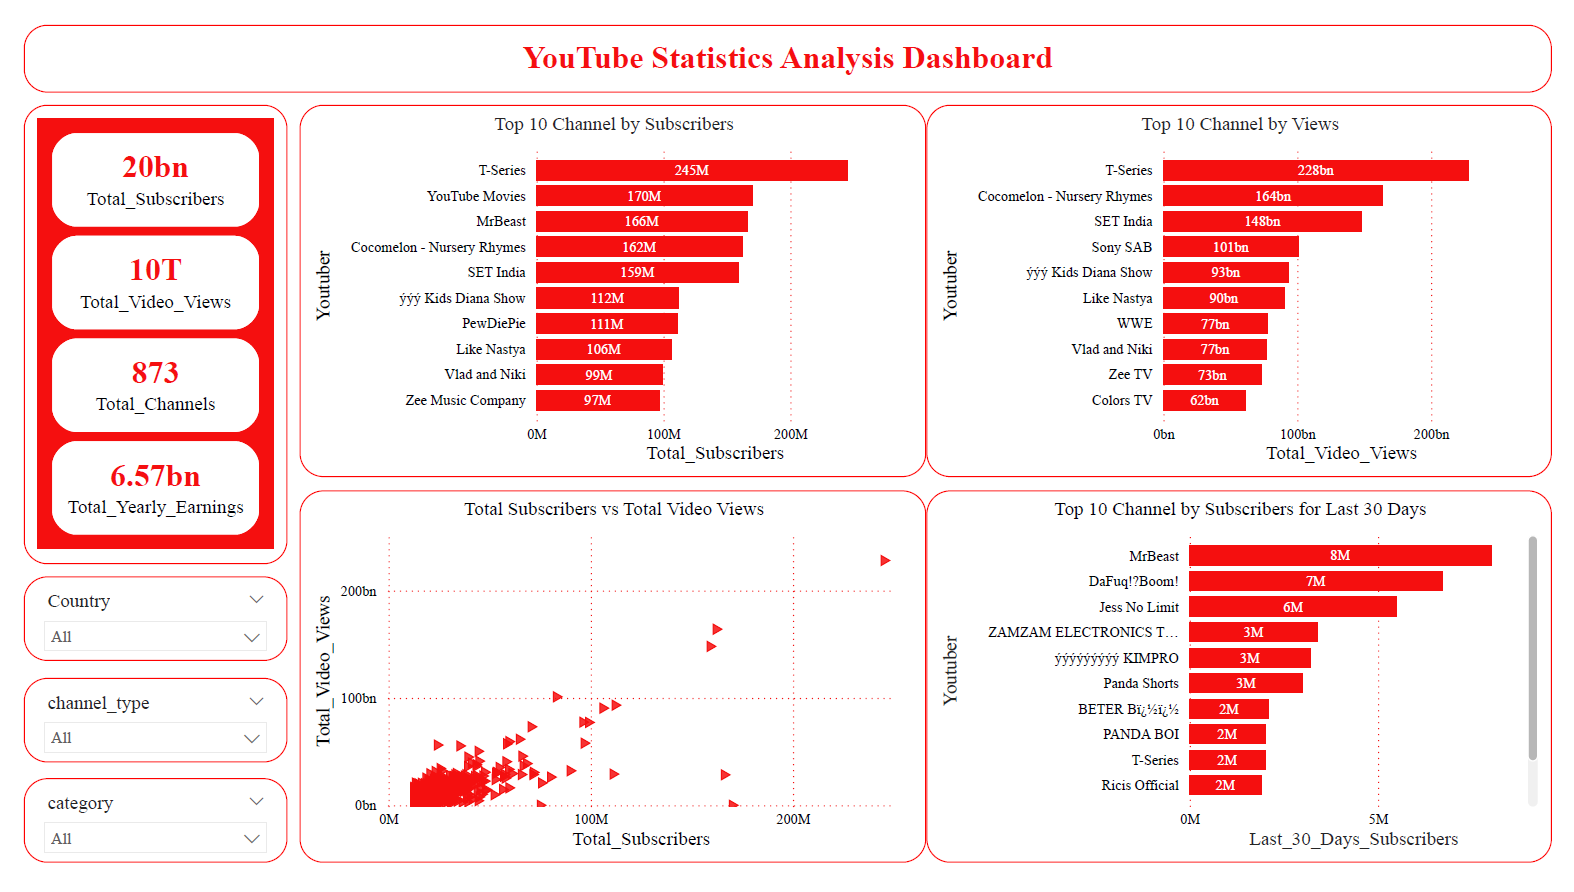

What the dashboard file says about the page in this screenshot:
{"tool":"powerbi","page":{"name":"Dashboard","canvas":[1280,720],"ordinal":0},"visuals":[{"type":"textbox","box":[0,0,1280.3,57.5],"z":0},{"type":"cardVisual","fields":{"Data":["Measure.Total_Subscribers","Measure.Total_Video_Views","Measure.Total_Channels","Measure.Avg_Yearly_Earnings"]},"box":[0,67.3,221.3,385.2],"z":1000},{"type":"barChart","title":"Top 10 Channel by Subscribers","fields":{"Category":["YouTube_Data.Youtuber"],"Y":["Measure.Total_Subscribers"]},"box":[231.1,67.3,524.6,311.8],"z":2000},{"type":"barChart","title":"Top 10 Channel by Subscribers for Last 30 Days","fields":{"Category":["YouTube_Data.Youtuber"],"Y":["Measure.Total_Subscribers_for_Last_30_Days"]},"box":[755.7,390.1,524.6,311.8],"z":3000},{"type":"slicer","fields":{"Values":["YouTube_Data.Country"]},"box":[0,462.2,221.3,70.9],"z":4000},{"type":"slicer","fields":{"Values":["YouTube_Data.category"]},"box":[0,631,221.3,70.9],"z":5000},{"type":"slicer","fields":{"Values":["YouTube_Data.channel_type"]},"box":[0,546.6,221.3,70.9],"z":6000},{"type":"scatterChart","title":"Total Subscribers vs Total Video Views","fields":{"Category":["YouTube_Data.Youtuber"],"X":["Measure.Total_Subscribers"],"Y":["Measure.Total_Video_Views"]},"box":[231.1,390.1,524.6,311.8],"z":7000},{"type":"barChart","title":"Top 10 Channel by Views","fields":{"Category":["YouTube_Data.Youtuber"],"Y":["Measure.Total_Video_Views"]},"box":[755.7,67.3,524.6,311.8],"z":8000}]}

Visuals, with their boxes in screenshot pixels (x1, y1, x2, y2), scaled from the page's 1280x720 canvas onto the 1574x892 screenshot:
textbox: (left=0, top=0, right=1573, bottom=71)
cardVisual - Measure.Total_Subscribers x Measure.Total_Video_Views: (left=0, top=83, right=272, bottom=561)
"Top 10 Channel by Subscribers" barChart: (left=284, top=83, right=929, bottom=470)
"Top 10 Channel by Subscribers for Last 30 Days" barChart: (left=929, top=483, right=1573, bottom=870)
slicer - YouTube_Data.Country: (left=0, top=573, right=272, bottom=660)
slicer - YouTube_Data.category: (left=0, top=782, right=272, bottom=870)
slicer - YouTube_Data.channel_type: (left=0, top=677, right=272, bottom=765)
"Total Subscribers vs Total Video Views" scatterChart: (left=284, top=483, right=929, bottom=870)
"Top 10 Channel by Views" barChart: (left=929, top=83, right=1573, bottom=470)
